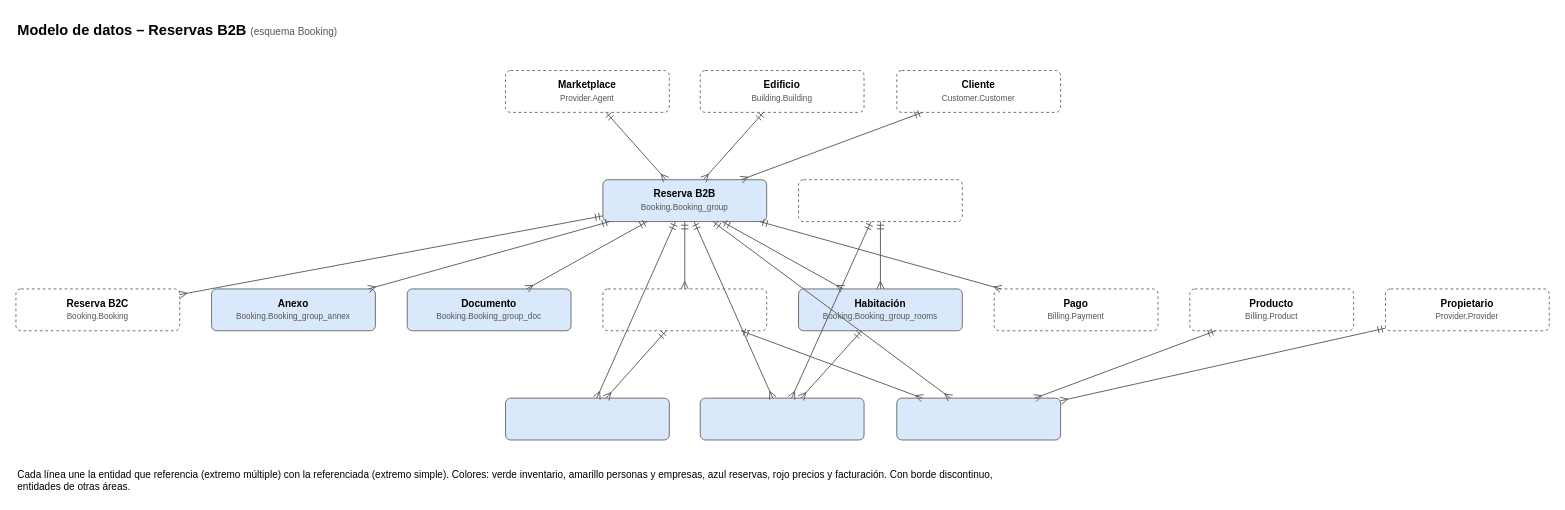
This 1565x510 diagram has some shape labels left out. The centre of each missing label's shape, as x and y in pixels:
"Concepto extra Booking.Booking_group_service" goes at [978,418].
"Factura Billing.Invoice" goes at [684,309].
"Precio por plaza Booking.Booking_group_price" goes at [587,418].
"Recurso Resource.Resource" goes at [880,200].
"Rooming list Booking.Booking_group_rooming" goes at [781,418].
